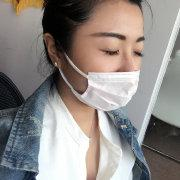WRONG: (58, 20, 147, 111)
